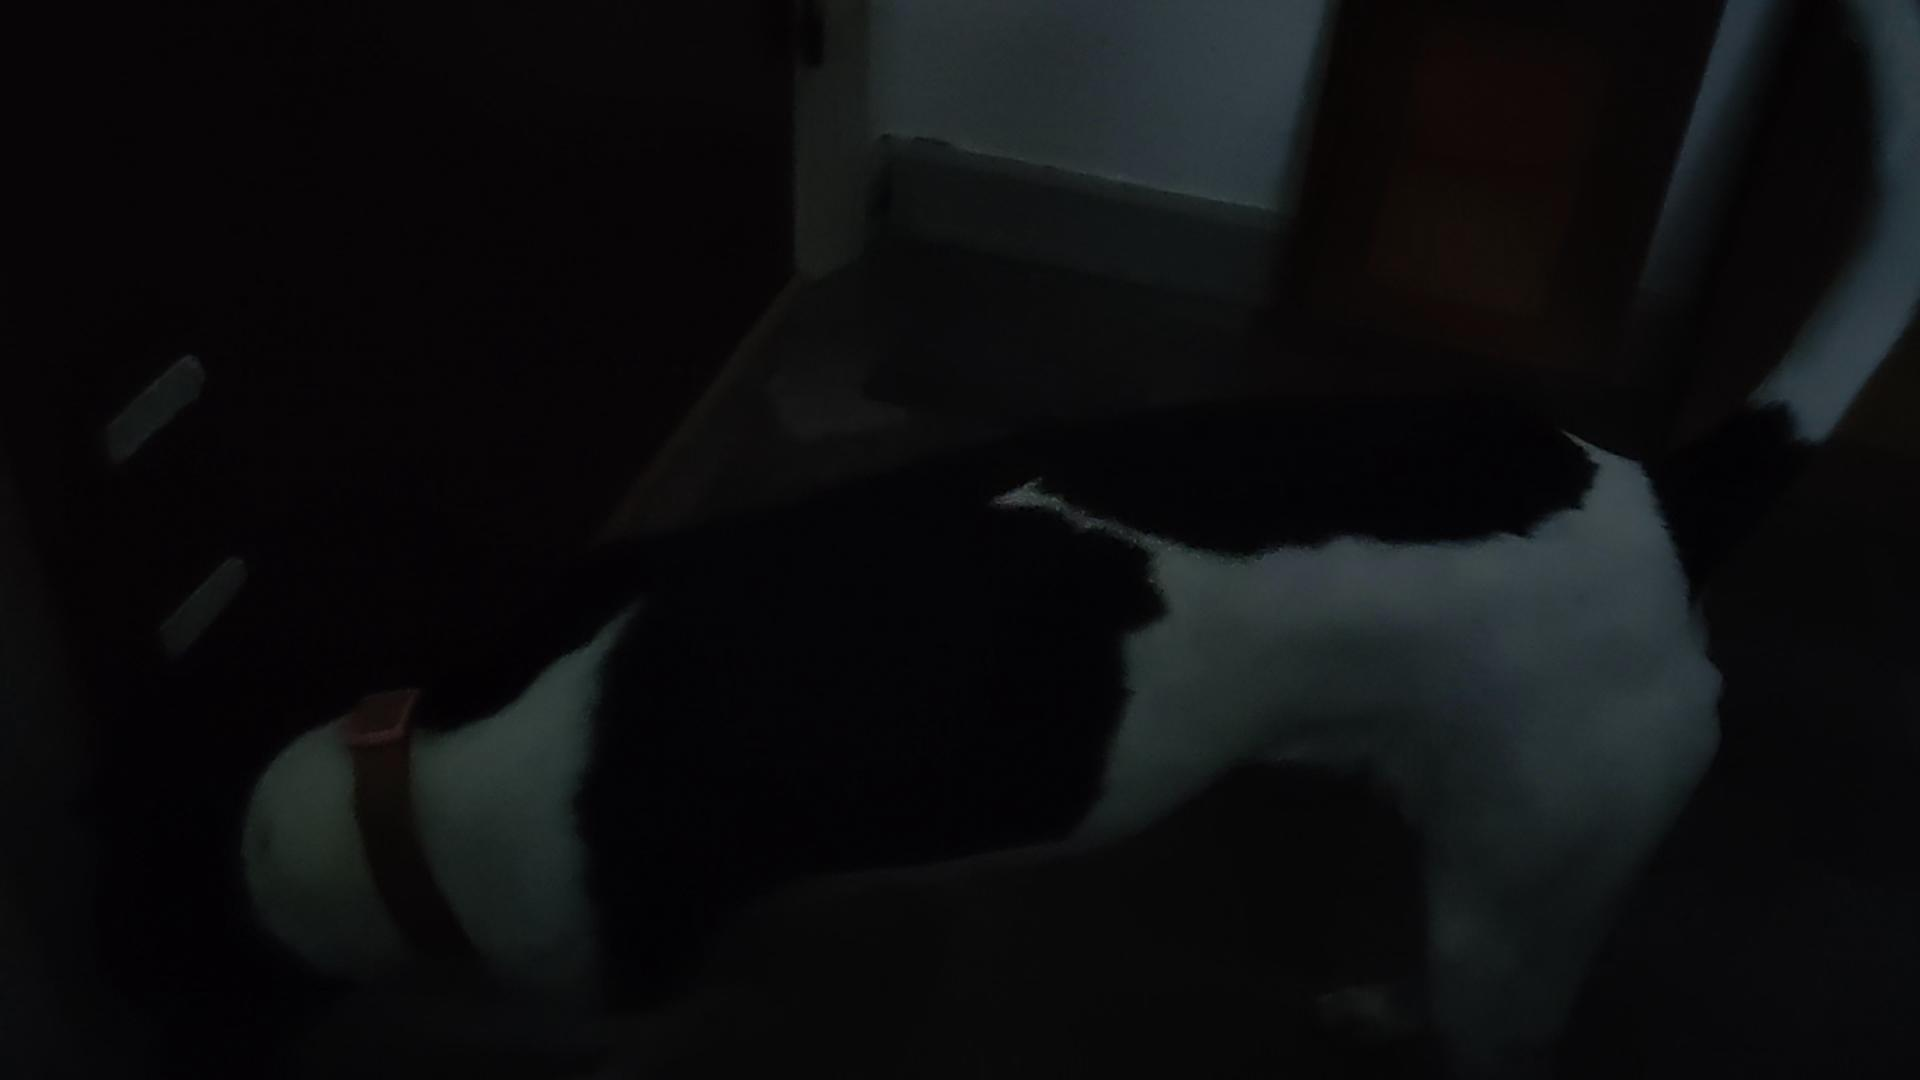Dog: (84, 0, 1919, 1079)
